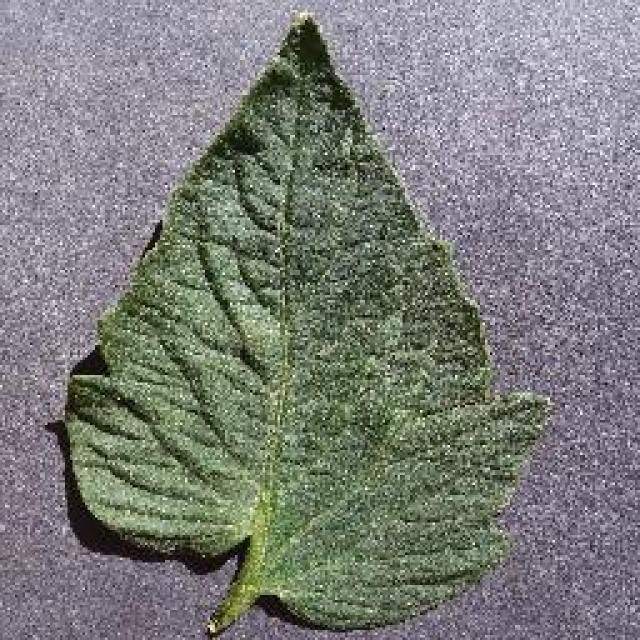Tomato_Healthy: (56, 36, 531, 630)
